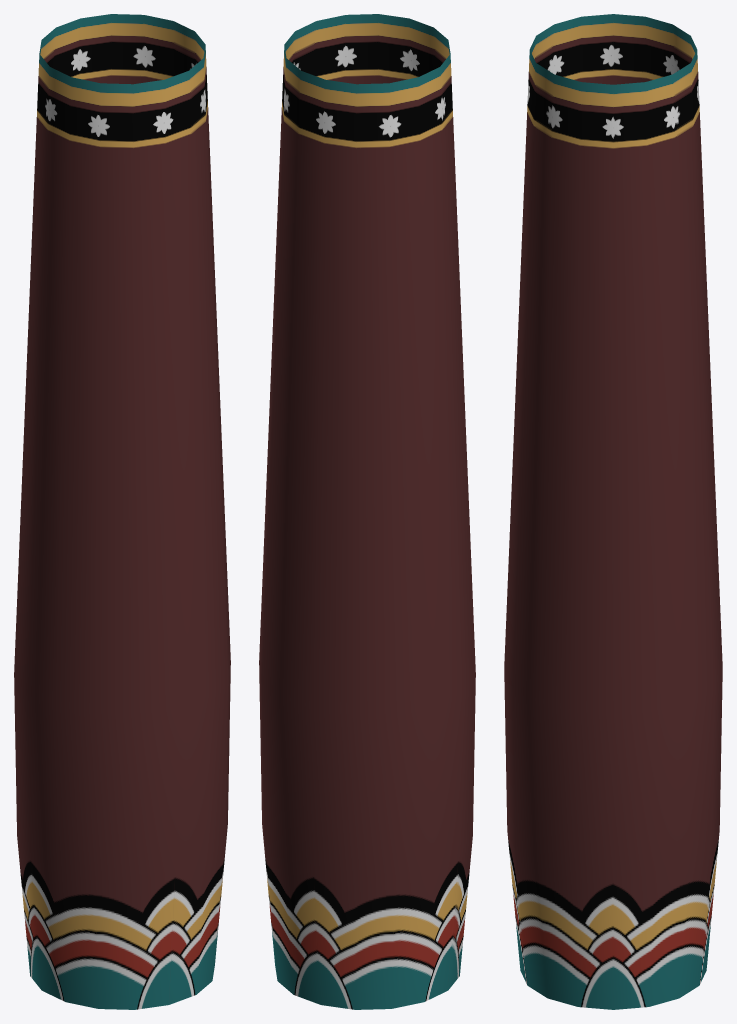
File: column.fbx
3 renders of one model, left to right at view 1: azimuth 30°, elevation 25°; view 2: azimuth 150°, elevation 25°; view 3: azimuth 270°, elevation 25°, orthographic.
Visible parts, largest first — view 1: column; view 2: column; view 3: column.
Part boxes in pixels (x1,y1,x2,y2): column: [14, 14, 230, 1009]; column: [259, 14, 475, 1009]; column: [504, 14, 722, 1009].
Bounding box in the file's own units: 95.67 × 445 × 95.67.
